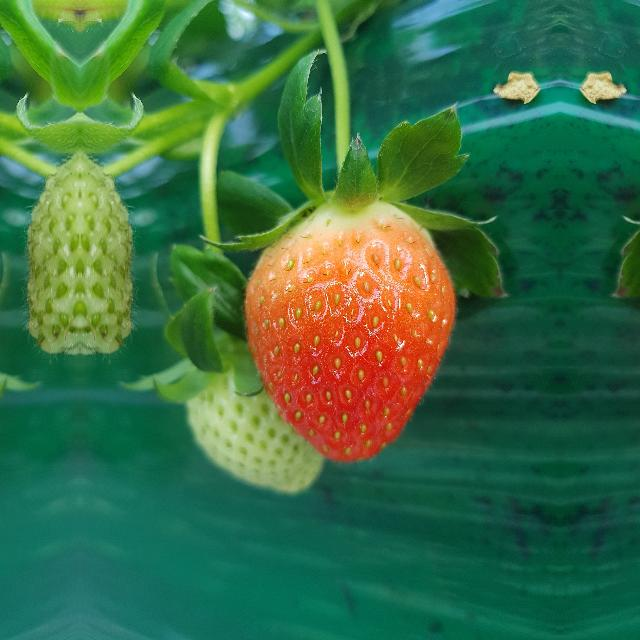Health_100: (241, 197, 457, 463)
Health_25: (158, 332, 328, 504), (82, 145, 136, 353), (24, 145, 78, 353)
